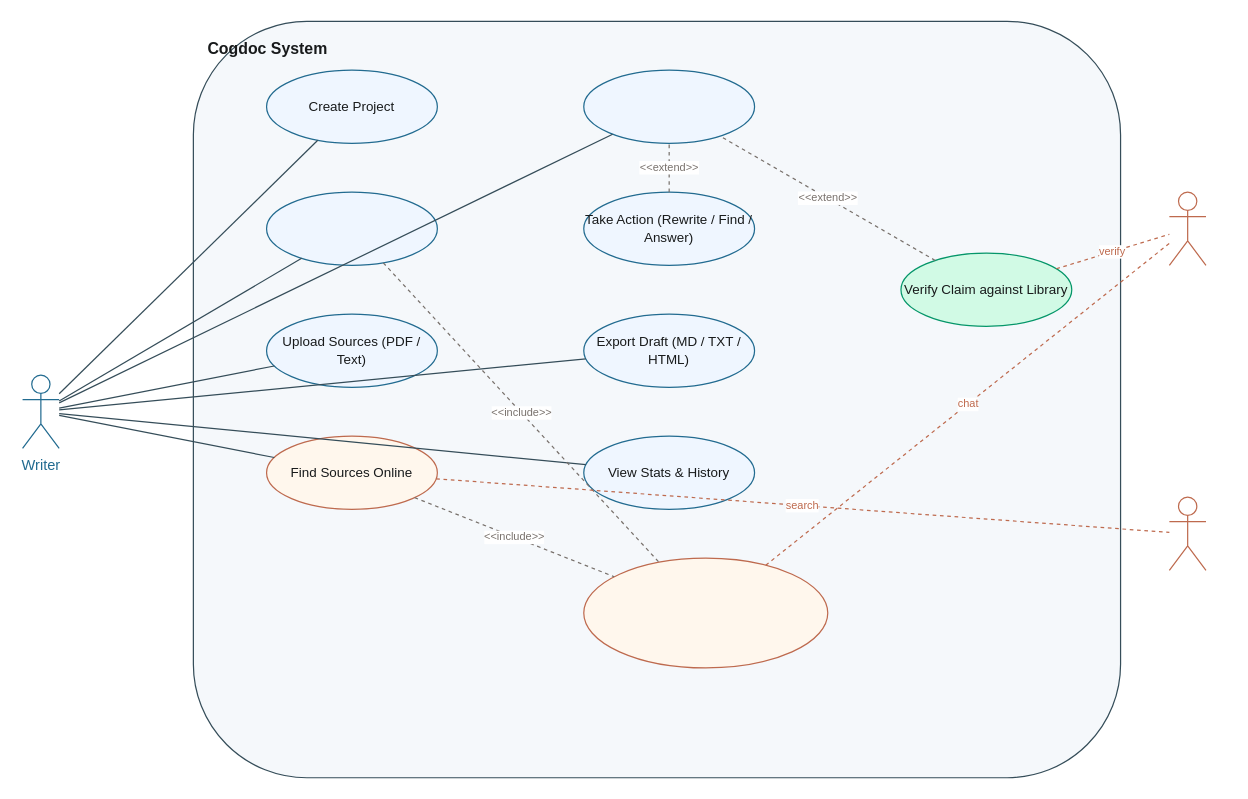
Image size: 1248x799. Some labels were removed from this diagram. The shapes that lost their labels are listed below. From the top down, each one's centre as x and y in pixels, then its label:
At [669,106]: "View Intervention (hover underline)".
At [351,228]: "Write Draft".
At [1187,228]: "LLM API".
At [1187,533]: "Web Search".
At [705,612]: "AI Engines Analyze Sentence Socrates - Diogenes Galileo - Aristotle".
